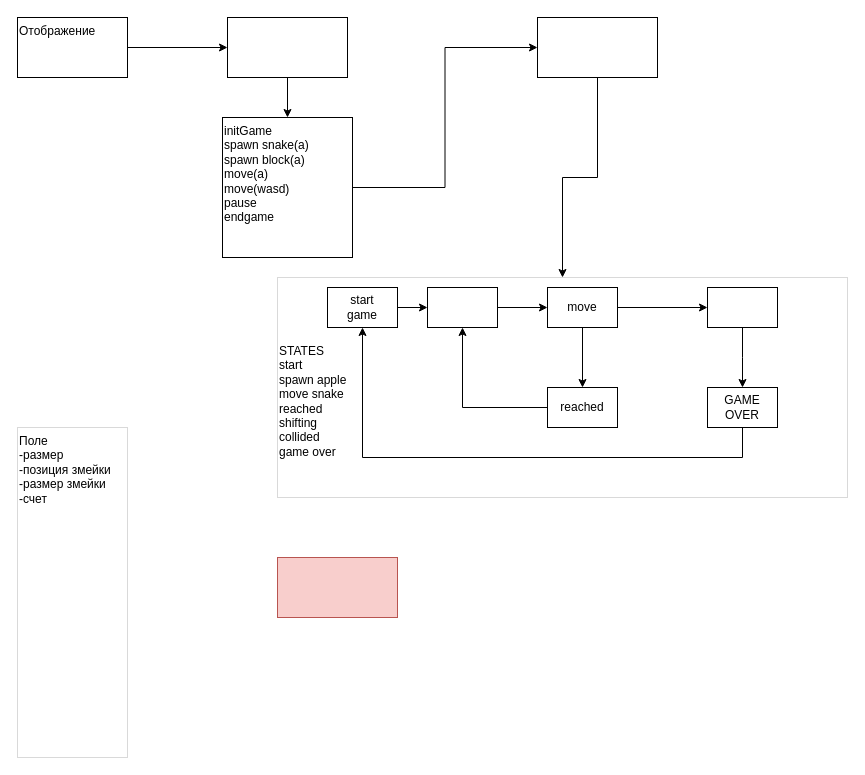
The diagram is 865 pixels wide and 775 high, and some of its shapes have lost their labels. Here are the shapes that lost their labels. From the top down, the centre of each, then its label:
(287,47): Контроллер
(597,47): Модель
(462,307): spawn
(742,307): collision
